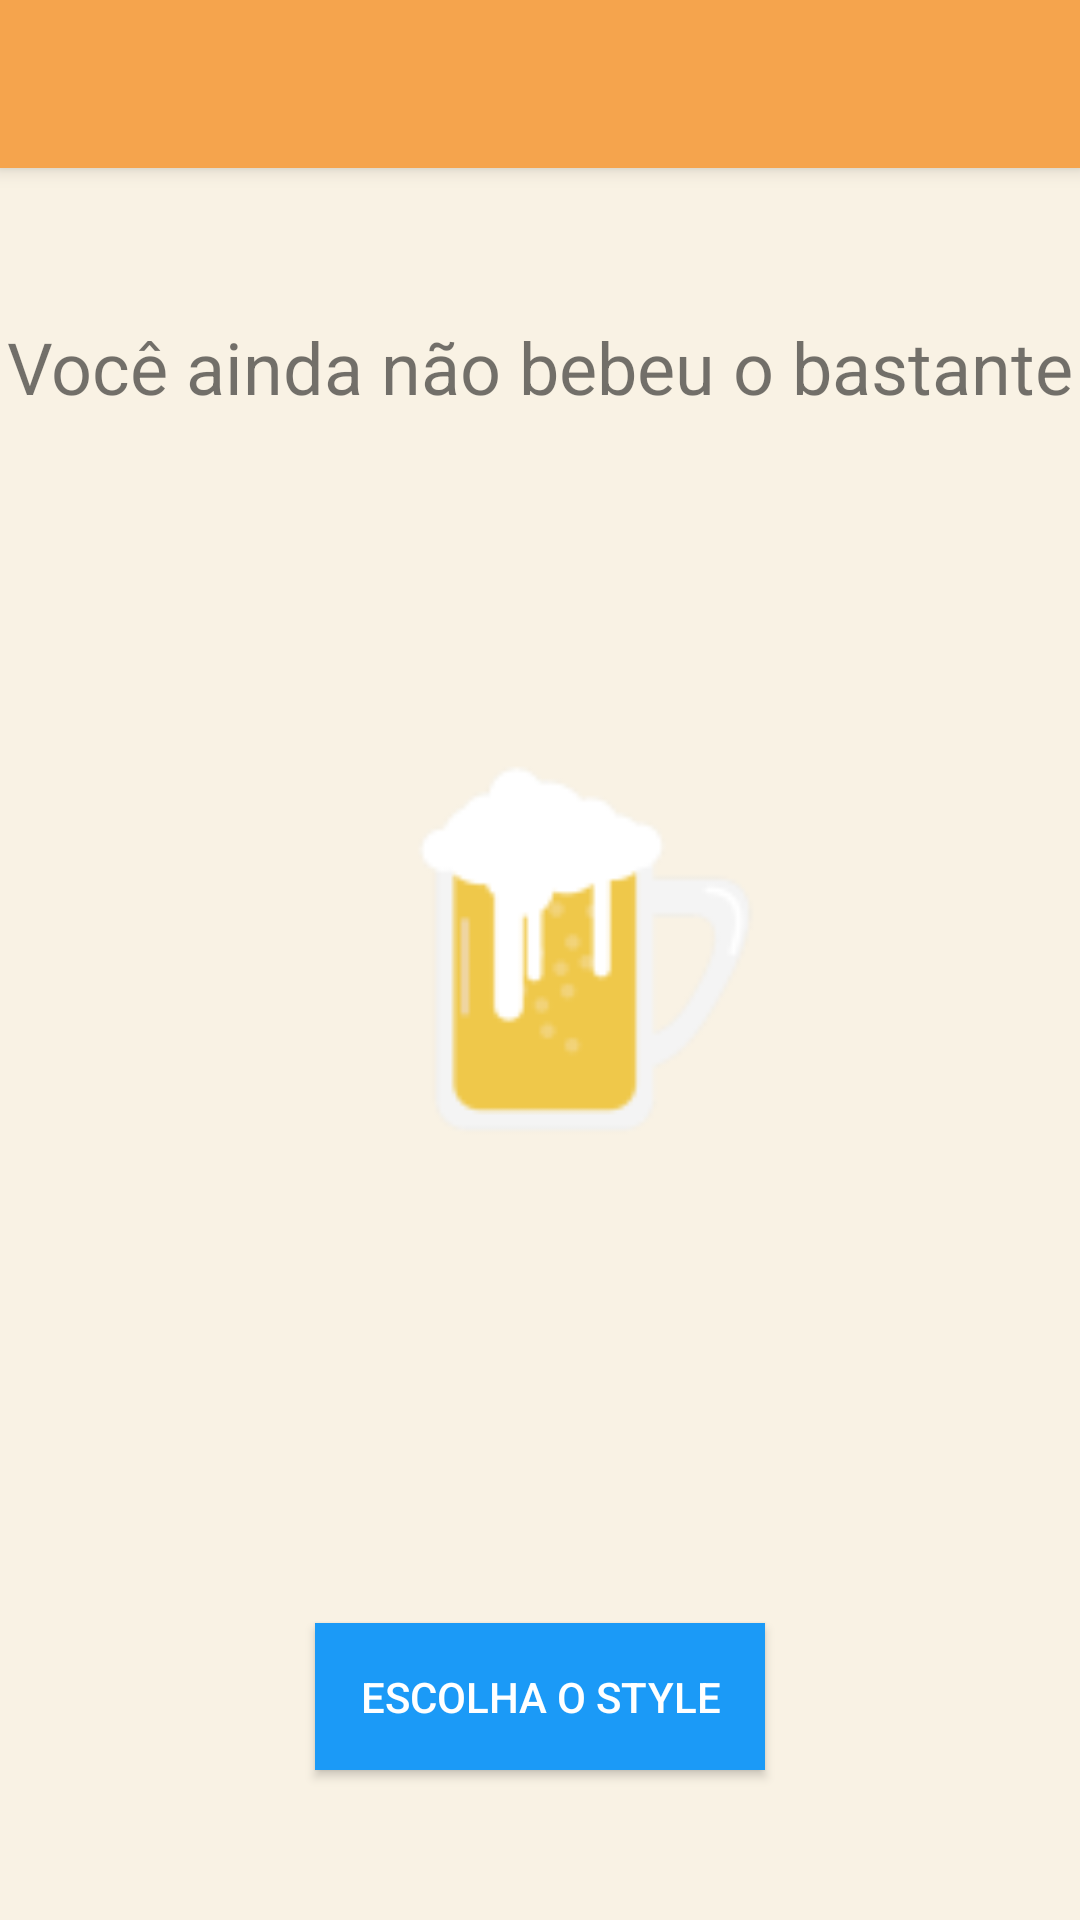

Point at icon controls on the screen. Image size 1080*1920, points as (x=x, y=y).
Linda imagem de uma cerveja: (x=582, y=941)
